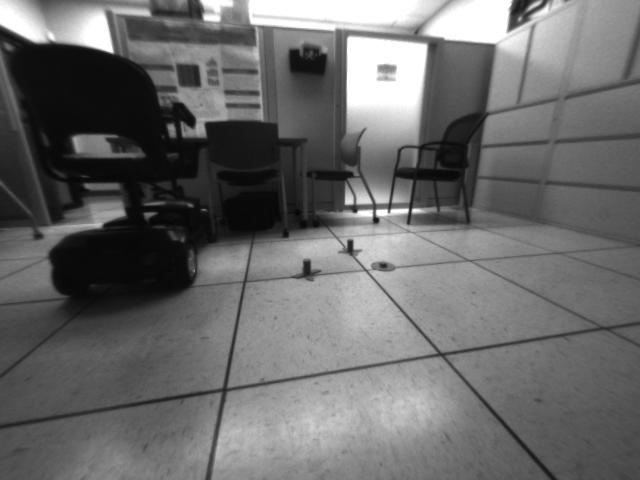X: (290, 257, 319, 281), (336, 238, 361, 257)
